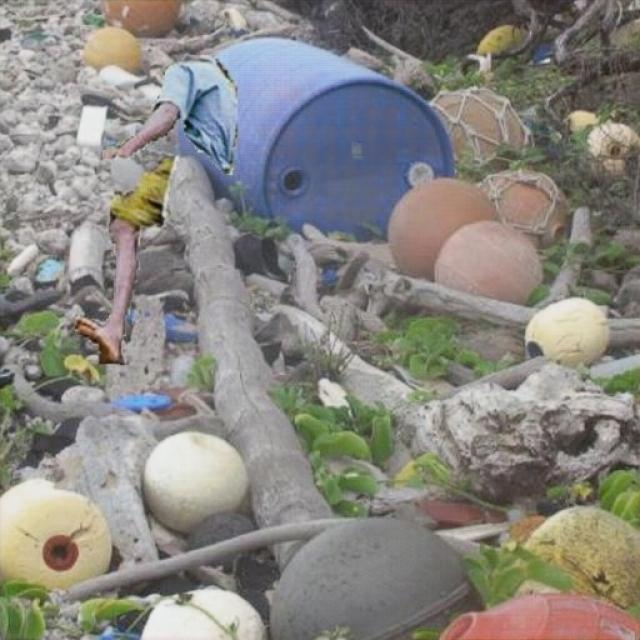Person in Rubble: (75, 55, 236, 364)
